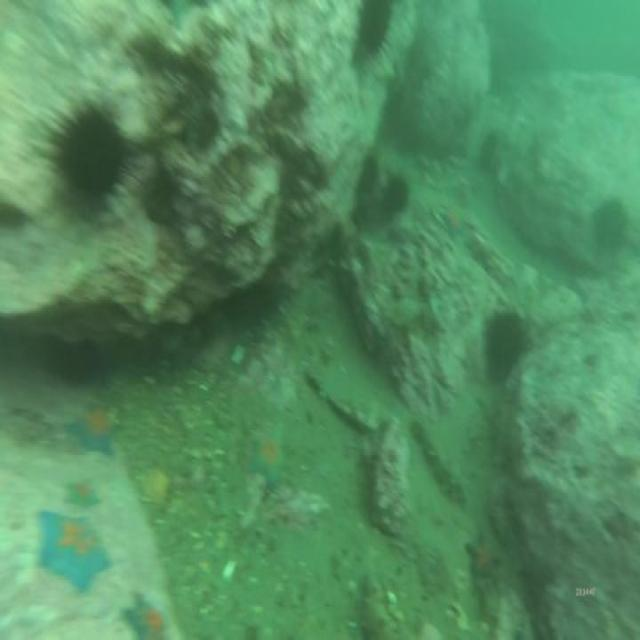echinus: (52, 104, 128, 209), (480, 302, 531, 386), (590, 193, 631, 261), (359, 5, 398, 63), (380, 164, 410, 220)
holothurian: (412, 414, 469, 510), (360, 570, 397, 640)
starfish: (35, 504, 113, 593), (244, 426, 294, 492), (68, 400, 122, 458), (122, 589, 172, 640), (464, 526, 503, 583), (61, 477, 103, 514), (436, 202, 468, 244)
